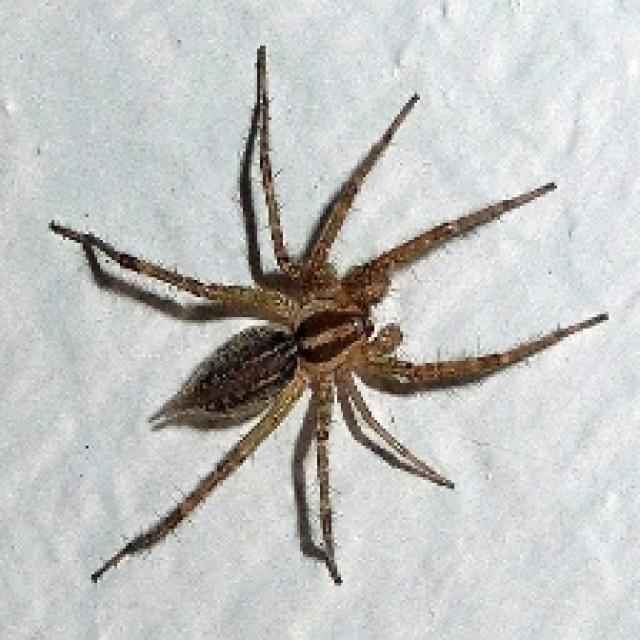Non venomous spider: (23, 17, 618, 632)
